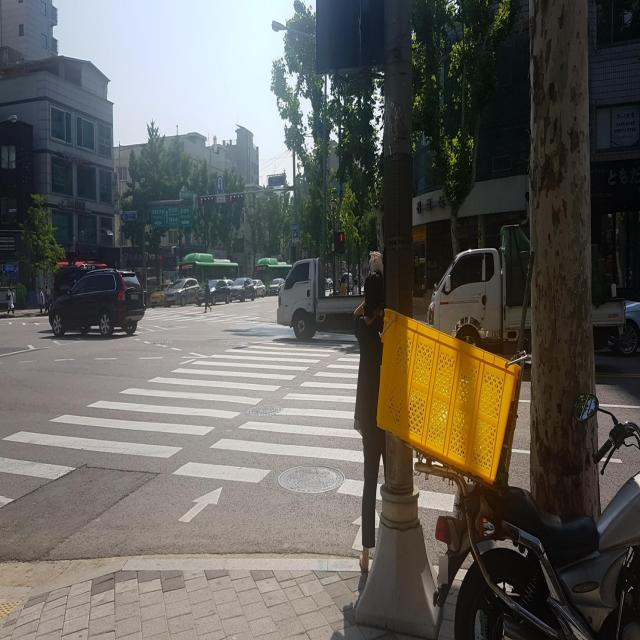빨간불: (334, 230, 345, 254)
횡단보도: (0, 307, 440, 560)
